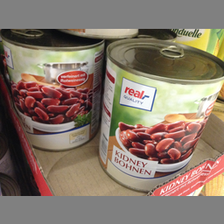beans: (101, 39, 222, 190), (4, 30, 101, 152)
